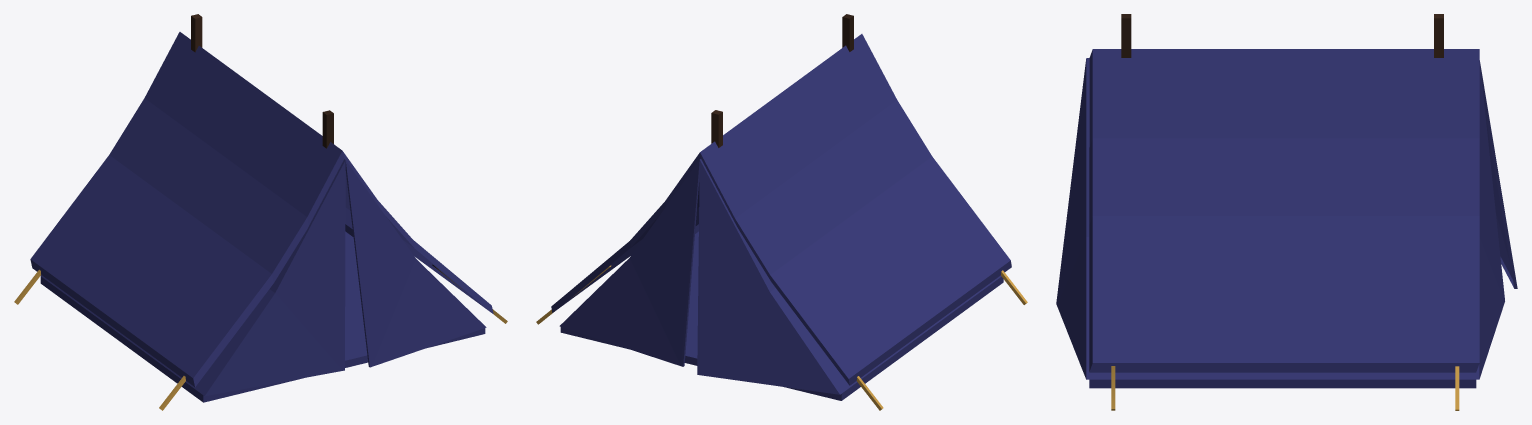
Rendered from tent_regular.glb.
3 renders of one model, left to right at view 1: azimuth 30°, elevation 25°; view 2: azimuth 150°, elevation 25°; view 3: azimuth 270°, elevation 25°, orthographic. The views are drawn at different scales.
Visible parts, largest first — view 1: Tent_Regular; view 2: Tent_Regular; view 3: Tent_Regular.
Part boxes in pixels (left/top/right/bottom): Tent_Regular: left=14, top=14, right=507, bottom=410; Tent_Regular: left=536, top=14, right=1027, bottom=410; Tent_Regular: left=1056, top=14, right=1517, bottom=410.
Size of the model in its own units: 2.46 by 1.71 by 2.39.
